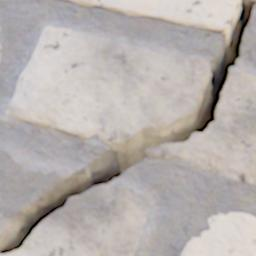brick: (62, 0, 239, 34), (180, 213, 255, 255)
broken_brick: (5, 27, 209, 146), (145, 68, 255, 185), (0, 186, 149, 255), (0, 151, 64, 234)
crack: (0, 0, 255, 254), (90, 130, 99, 138)
